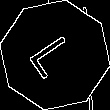L_NE: (25, 28, 85, 82)
